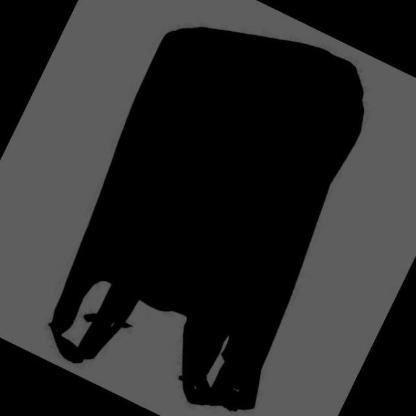Plastic Bag: (47, 25, 365, 415)
